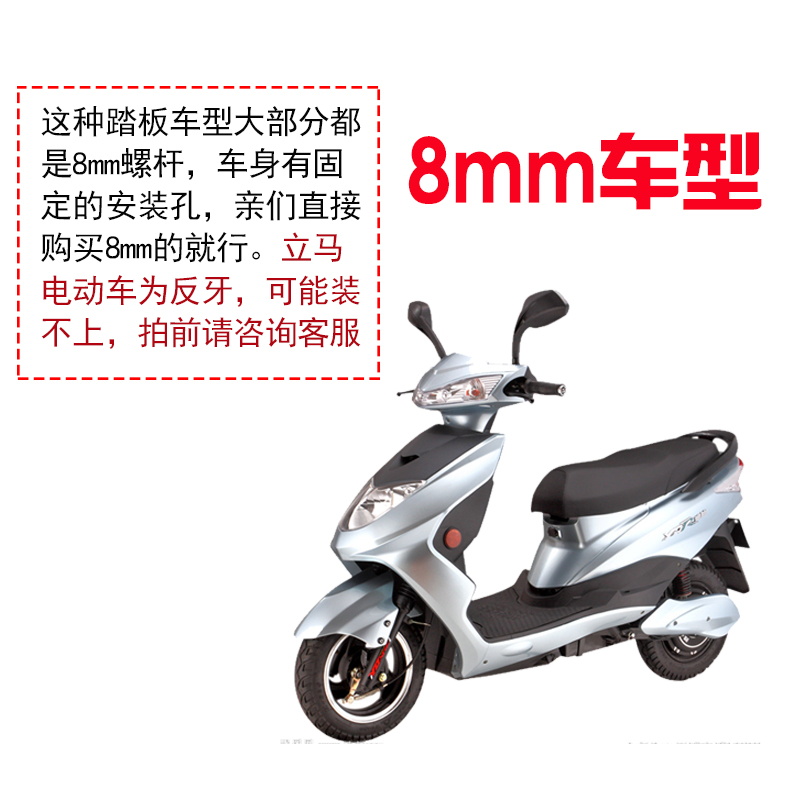电动车: (292, 295, 762, 744)
